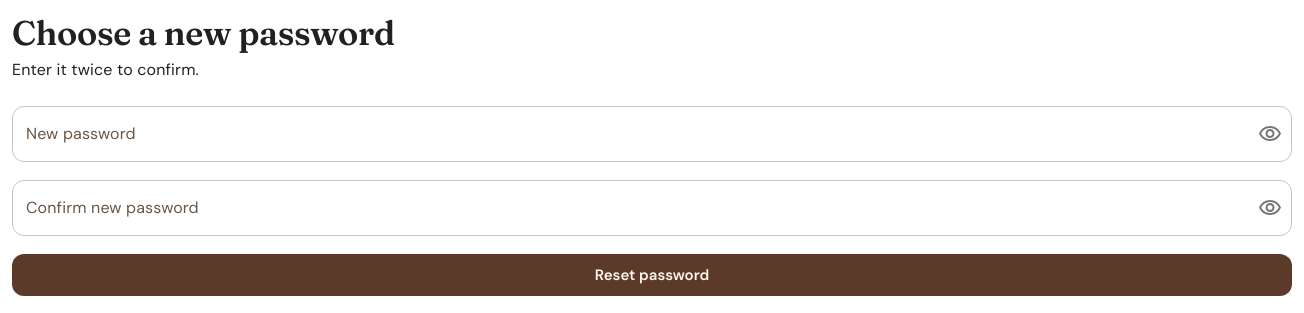
Test: ResetPasswordForm › submits the token and new password, then shows success
This screenshot has width=1304, height=313.
Type "brew-new-pass-0001" into the password field labelled "New password".
click(627, 134); type("brew-new-pass-0001")  # box [12, 106, 1242, 162]
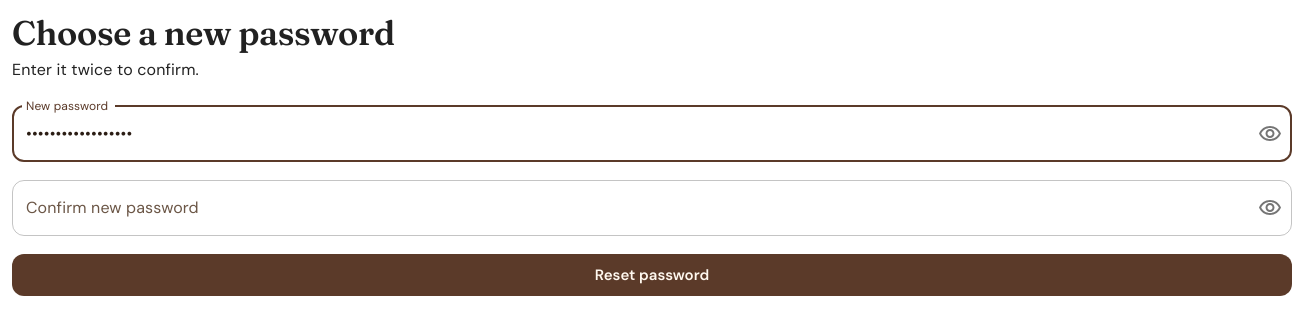
Type "brew-new-pass-0001" into the password field labelled "Confirm new password".
click(627, 208); type("brew-new-pass-0001")  # box [12, 180, 1242, 236]
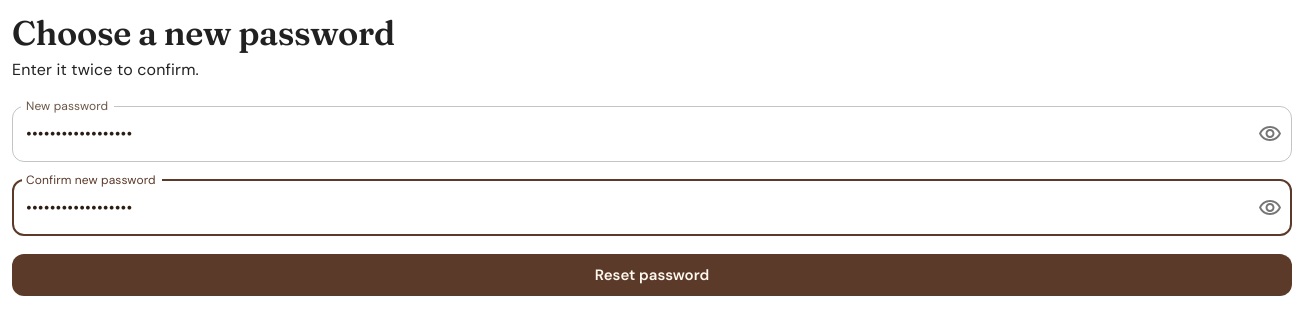
Click the button "Reset password".
click(652, 275)  # box [12, 254, 1292, 296]
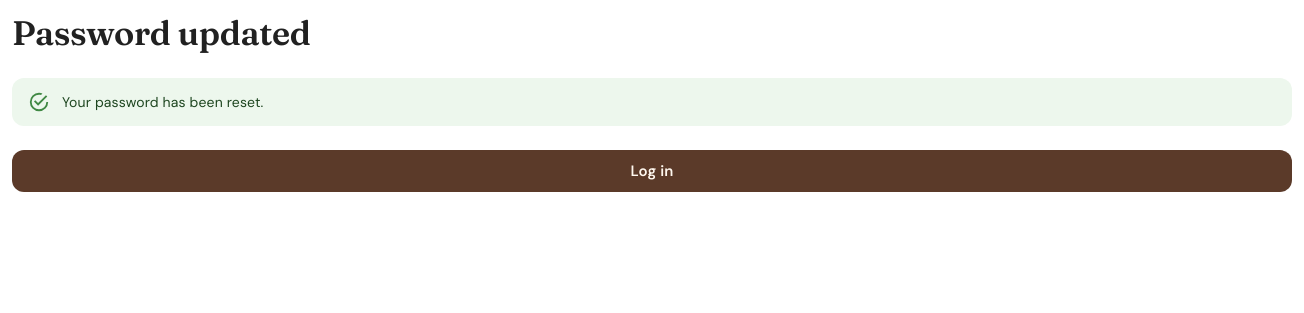
Now the text "Your password has been reset." is shown, box [62, 93, 264, 111]
